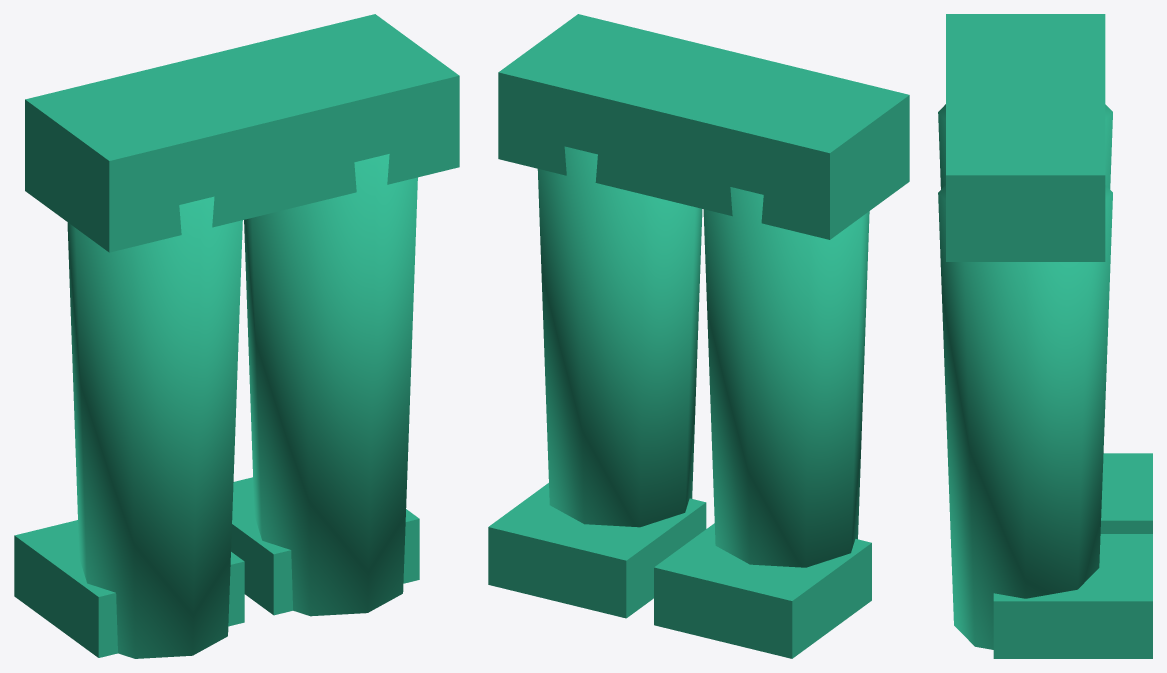
The model's file is mythril_greaves.glb.
3 renders of one model, left to right at view 1: azimuth 30°, elevation 25°; view 2: azimuth 150°, elevation 25°; view 3: azimuth 270°, elevation 25°, orthographic. The views are drawn at different scales.
Parts seen in each view (by area): view 1: mythril_greaves_v0; view 2: mythril_greaves_v0; view 3: mythril_greaves_v0.
Boxes of the visible parts, <box> form: mythril_greaves_v0: <box>14,14,459,658</box>; mythril_greaves_v0: <box>488,14,909,658</box>; mythril_greaves_v0: <box>938,14,1152,658</box>.
Bounding box in the file's own units: 0.24 × 0.34 × 0.135.
